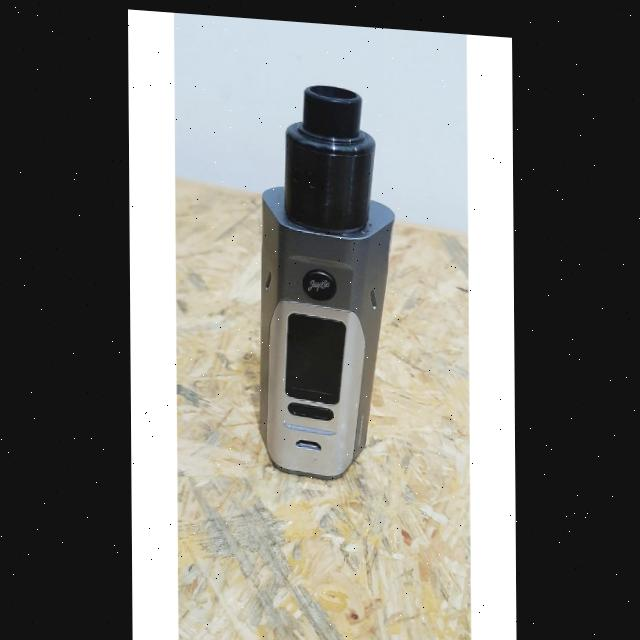vape: (261, 75, 396, 477)
